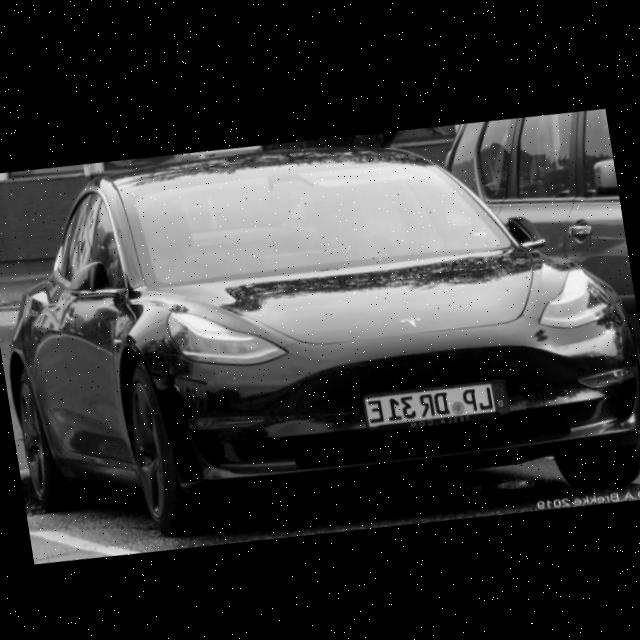license-plates: (365, 382, 507, 427)
